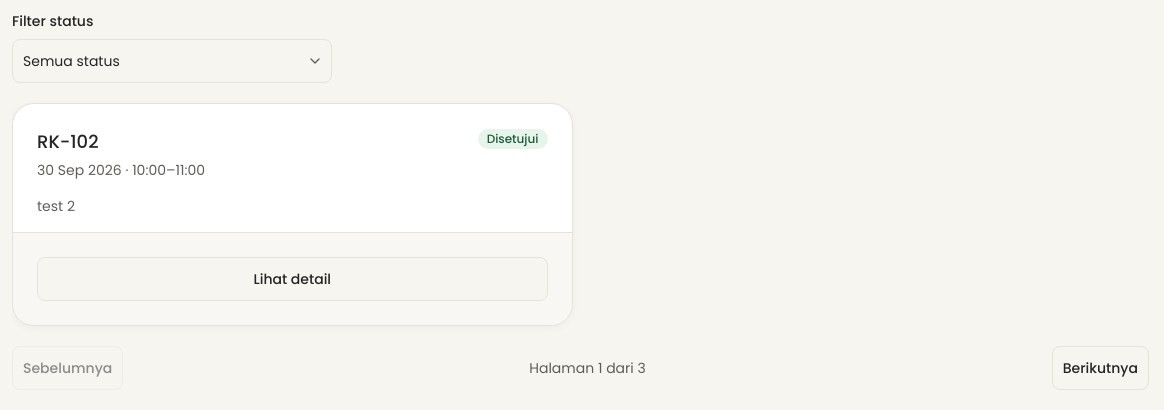
Test: ReservationHistoryList hardening › ganti filter selalu kembali ke halaman 1
This screenshot has width=1164, height=410.
Expected: the text "RK-102" is shown, [37,129,98,154]
Click the button "Berikutnya" at (1100, 368), box [1052,346,1149,390]
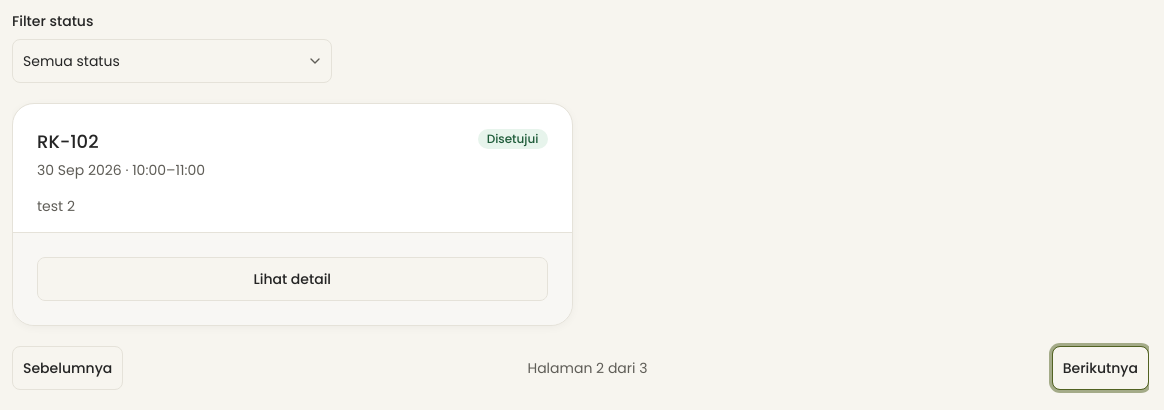
Expected: the text "Halaman 2 dari 3" is shown, [528,358,648,378]
Click the dropdown named "Filter status" at (71, 61), box [12,39,332,83]
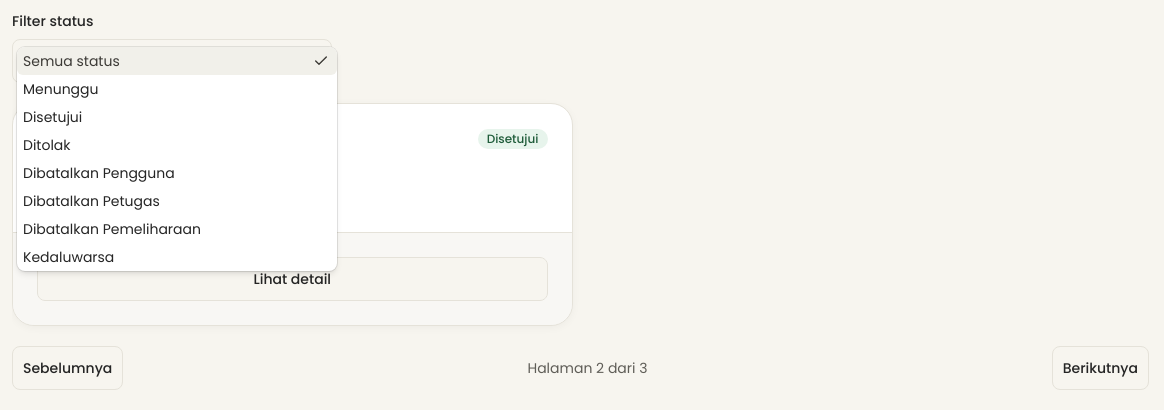
Click the option "Disetujui" at (53, 117), box [23,107,82,127]
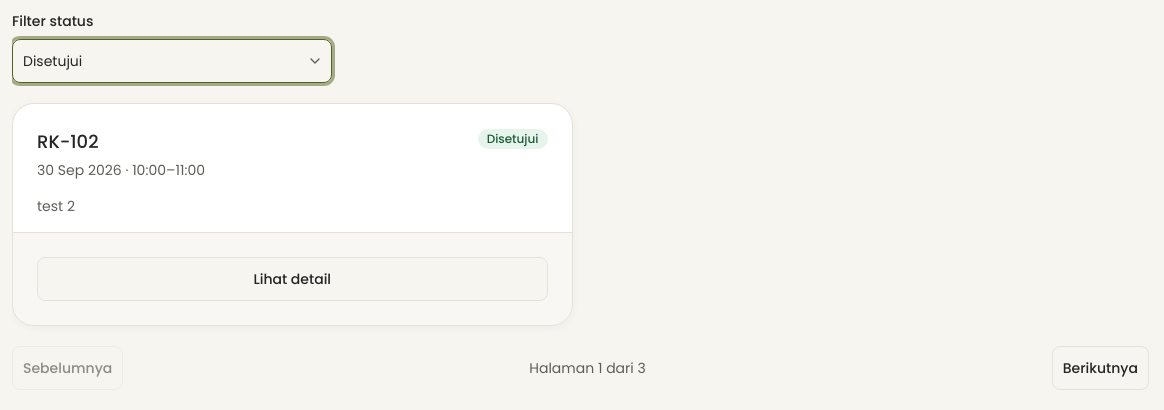
Expected: the text "Halaman 1 dari 3" is shown, [529,358,646,378]
